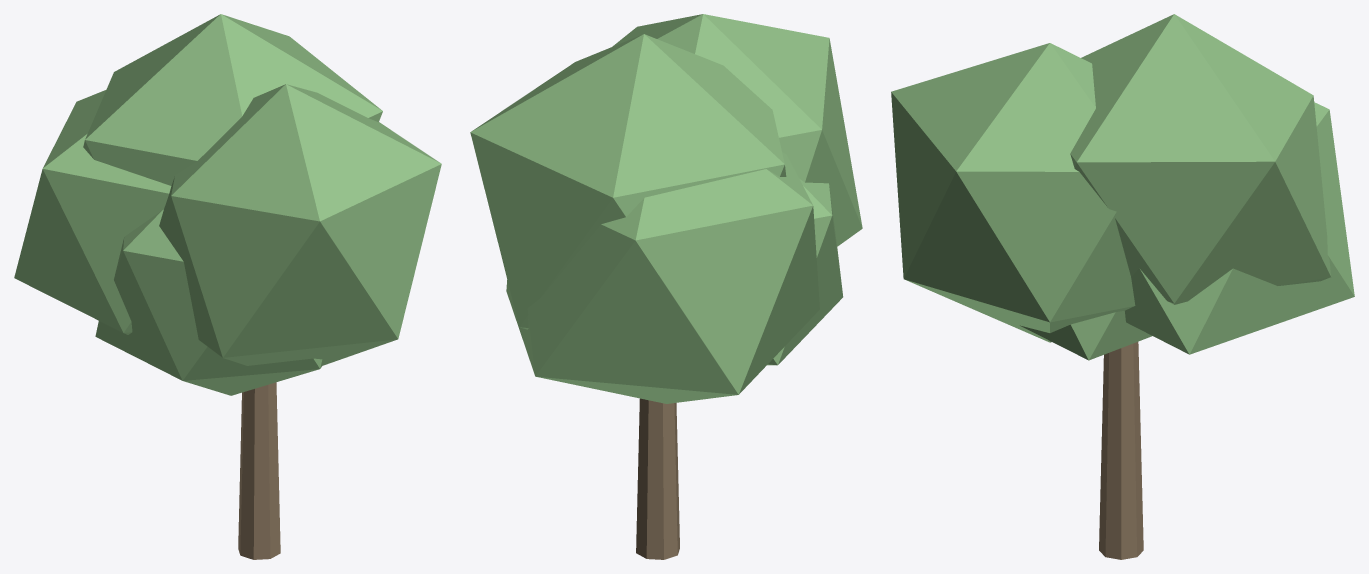
File: Tree_A.fbx
3 renders of one model, left to right at view 1: azimuth 30°, elevation 25°; view 2: azimuth 150°, elevation 25°; view 3: azimuth 270°, elevation 25°, orthographic. The views are drawn at different scales.
Parts seen in each view (by area): view 1: Tree_A_Mesh; view 2: Tree_A_Mesh; view 3: Tree_A_Mesh.
Part boxes in pixels (x1,y1,x2,y2): Tree_A_Mesh: [14, 14, 441, 559]; Tree_A_Mesh: [470, 14, 862, 559]; Tree_A_Mesh: [891, 14, 1354, 559].
Bounding box in the file's own units: 2.55 × 3.31 × 4.18.
